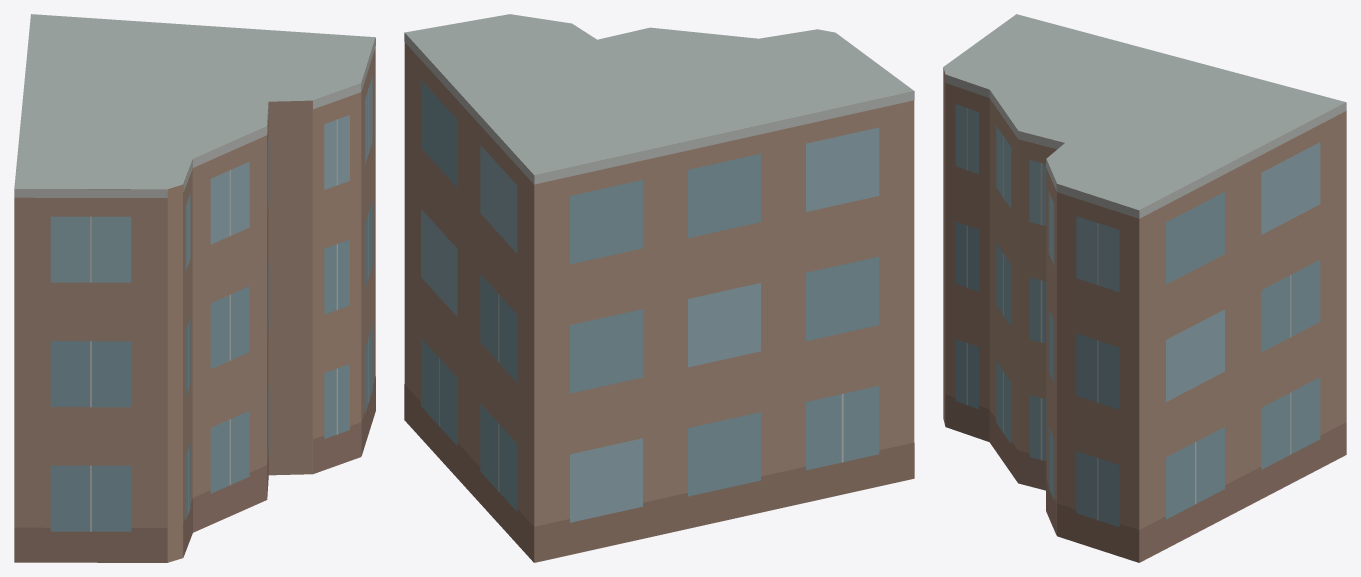
File: survey-upis-32486919.glb
3 views of the same model, side by side, from view 1: azimuth 30°, elevation 25°; view 2: azimuth 150°, elevation 25°; view 3: azimuth 270°, elevation 25° (orthographic). The views are drawn at different scales.
Parts seen in each view (by area): view 1: survey-upis-32486919.tmp; view 2: survey-upis-32486919.tmp; view 3: survey-upis-32486919.tmp.
Part boxes in pixels (<box>): survey-upis-32486919.tmp: <box>14,14,375,562</box>; survey-upis-32486919.tmp: <box>404,14,914,562</box>; survey-upis-32486919.tmp: <box>943,14,1346,562</box>.
Size of the model in its own units: 12.19 by 10.2 by 10.58.
